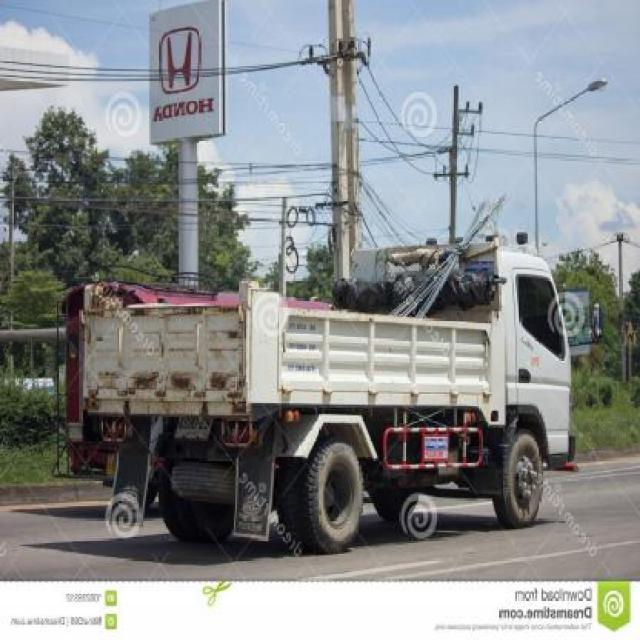truck: (58, 196, 579, 552)
